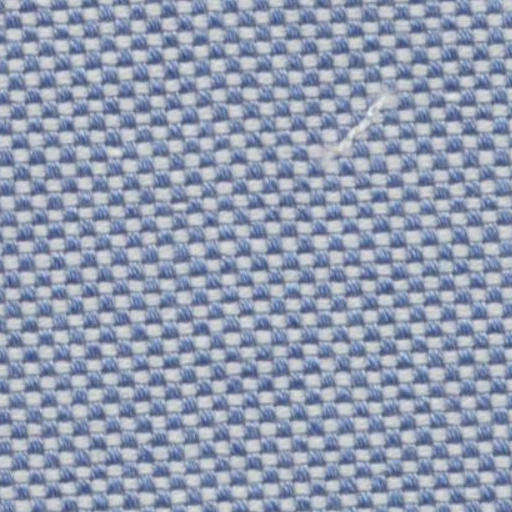DuanSha: (308, 76, 406, 170)
